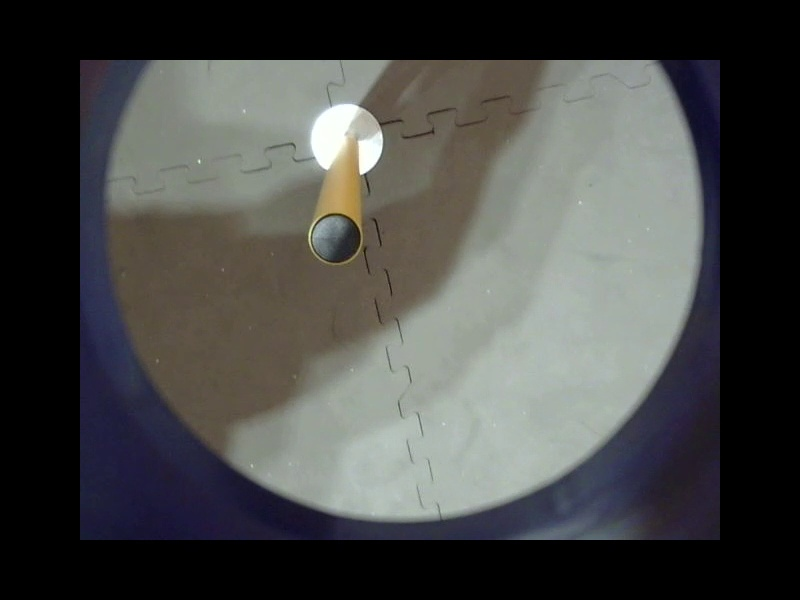tip: (305, 200, 368, 270)
